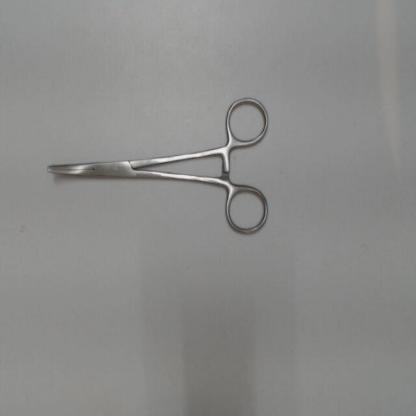Crile Artery Forceps: (38, 89, 274, 246)
